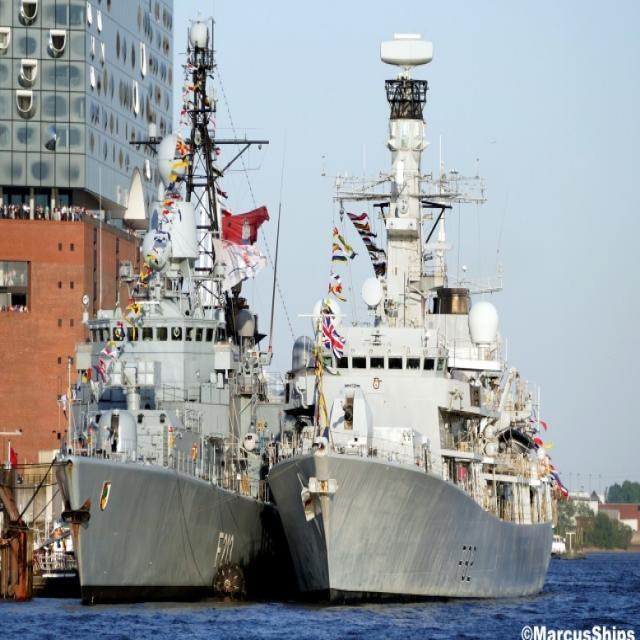Fragata: (269, 1, 565, 602), (48, 1, 279, 611)
